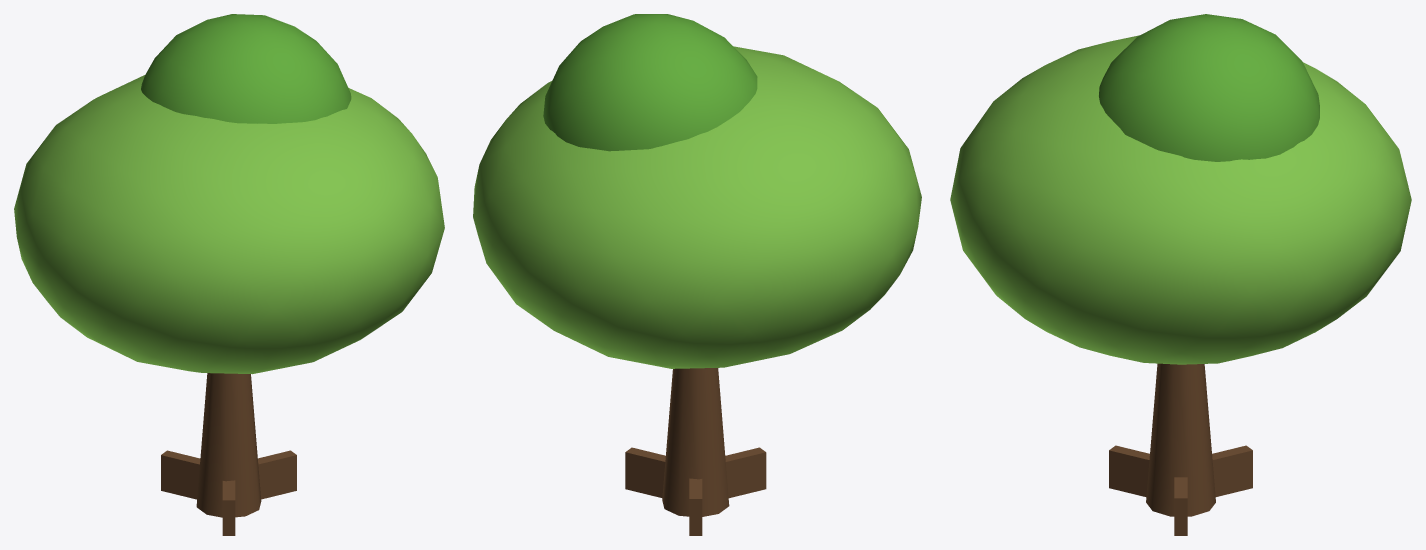
The model's file is prop_tree_tropical_1.glb.
3 views of the same model, side by side, from view 1: azimuth 30°, elevation 25°; view 2: azimuth 150°, elevation 25°; view 3: azimuth 270°, elevation 25° (orthographic). The views are drawn at different scales.
Parts seen in each view (by area): view 1: Crown, CrownTop, Trunk, Root1, Root0, Root2; view 2: Crown, CrownTop, Trunk, Root2, Root0, Root1; view 3: Crown, CrownTop, Trunk, Root2, Root1, Root0.
Boxes of the visible parts, x1,y1,x2,y2 form: Crown: [14, 75, 444, 374]; CrownTop: [141, 14, 351, 123]; Trunk: [196, 373, 261, 517]; Root1: [161, 450, 200, 499]; Root0: [258, 450, 296, 499]; Root2: [222, 480, 235, 535]; Crown: [473, 46, 921, 368]; CrownTop: [543, 14, 757, 151]; Trunk: [662, 368, 729, 516]; Root2: [725, 447, 766, 498]; Root0: [625, 447, 665, 497]; Root1: [689, 478, 702, 535]; Crown: [950, 35, 1411, 364]; CrownTop: [1099, 14, 1319, 161]; Trunk: [1146, 363, 1215, 516]; Root2: [1109, 445, 1149, 496]; Root1: [1212, 445, 1252, 496]; Root0: [1174, 477, 1187, 535].
Size of the model in its own units: 5.54 by 6.51 by 5.53.
